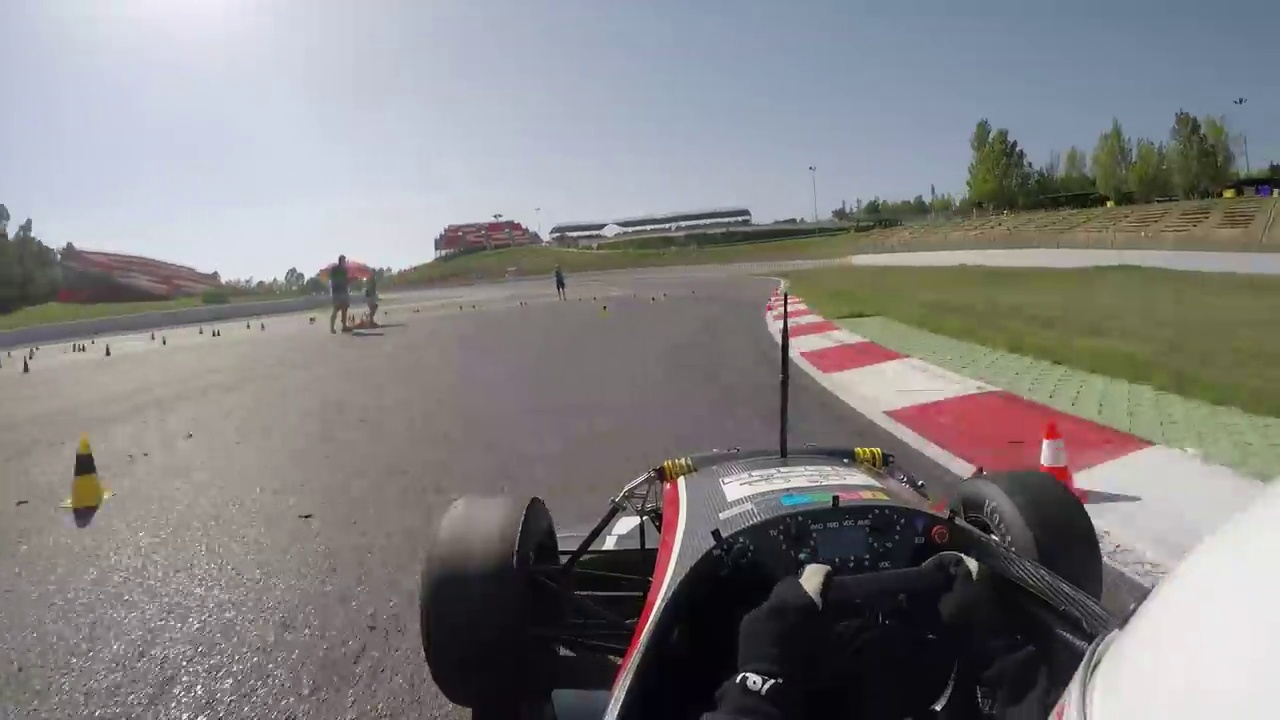Cone: (62, 429, 111, 512)
